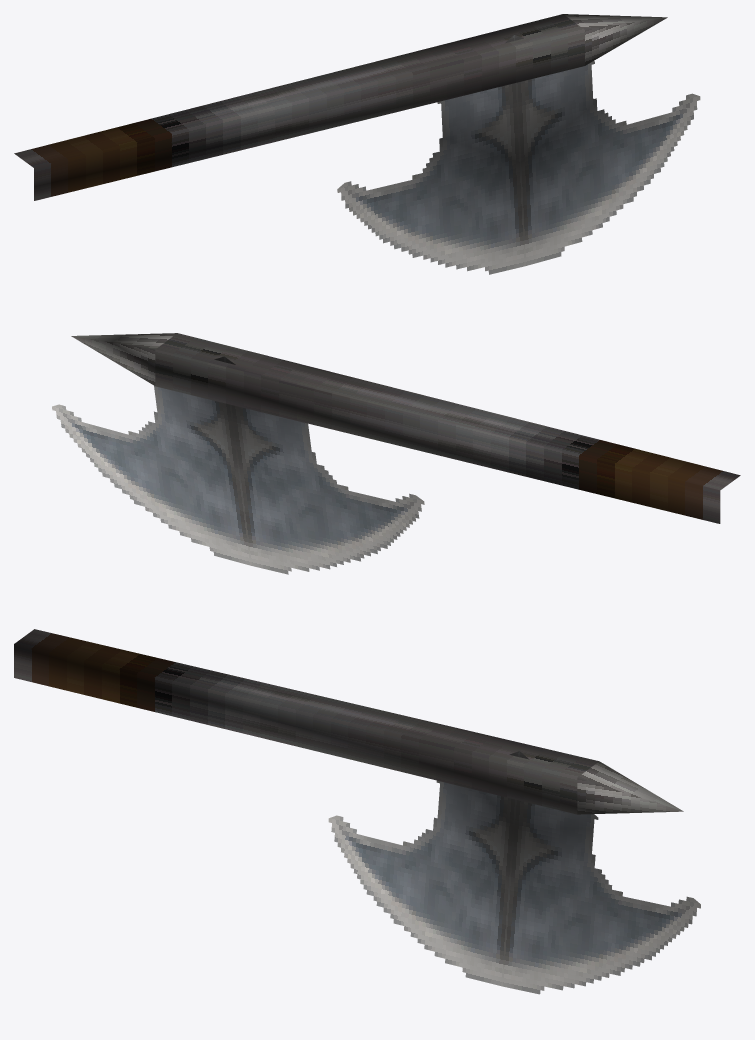
3 renders of one model, top to bottom at view 1: azimuth 30°, elevation 25°; view 2: azimuth 150°, elevation 25°; view 3: azimuth 330°, elevation 25°, orthographic. The views are drawn at different scales.
Parts seen in each view (by area): view 1: it60; view 2: it60; view 3: it60.
Part boxes in pixels (left/top/right/bottom): it60: left=14, top=14, right=700, bottom=274; it60: left=52, top=333, right=740, bottom=574; it60: left=14, top=629, right=700, bottom=994.
Size of the model in its own units: 2.63 by 0.9148 by 0.2.
3 materials, 3 textured.
